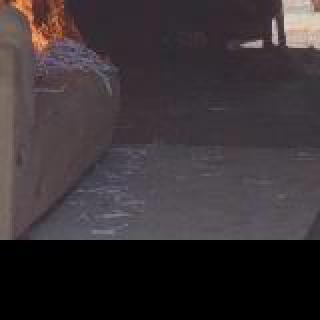fire: (8, 0, 88, 54), (0, 0, 26, 10)
